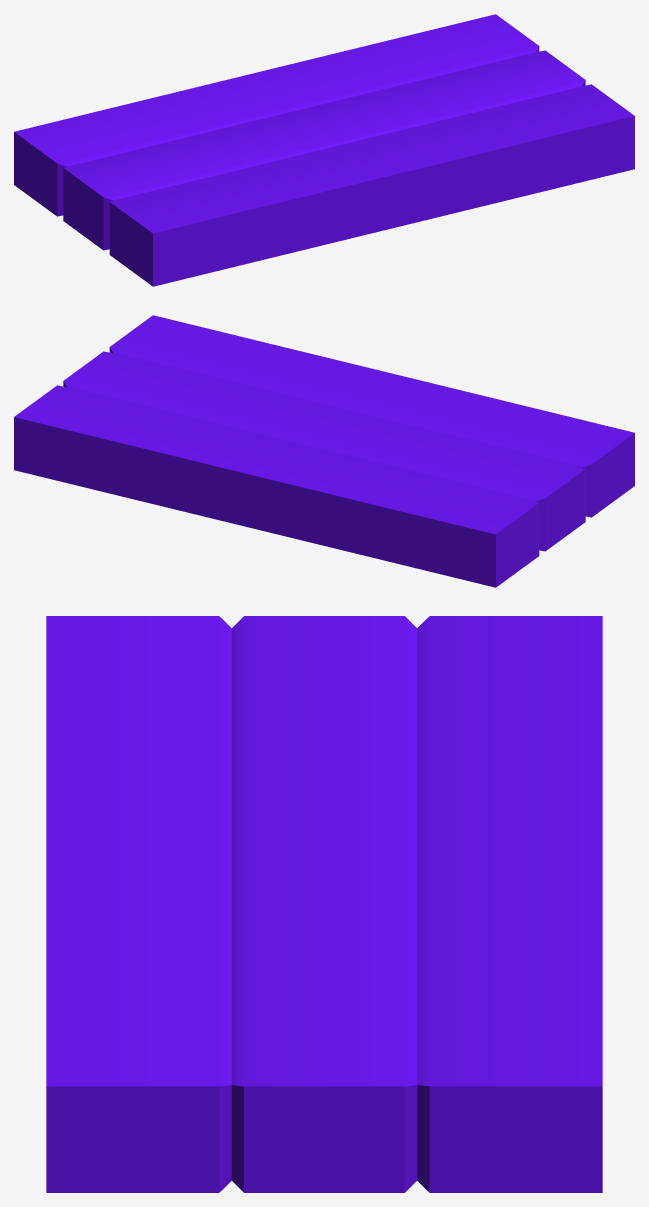
The model's file is Counter_Top_02_D_C02.fbx.
3 renders of one model, top to bottom at view 1: azimuth 30°, elevation 25°; view 2: azimuth 150°, elevation 25°; view 3: azimuth 270°, elevation 25°, orthographic. The views are drawn at different scales.
Visible parts, largest first — view 1: Counter_Top_02_D_C02; view 2: Counter_Top_02_D_C02; view 3: Counter_Top_02_D_C02.
Part boxes in pixels (left/top/right/bottom): Counter_Top_02_D_C02: left=14, top=14, right=634, bottom=286; Counter_Top_02_D_C02: left=14, top=315, right=634, bottom=587; Counter_Top_02_D_C02: left=46, top=616, right=602, bottom=1192.
Bounding box in the file's own units: 200 × 21.09 × 100.
